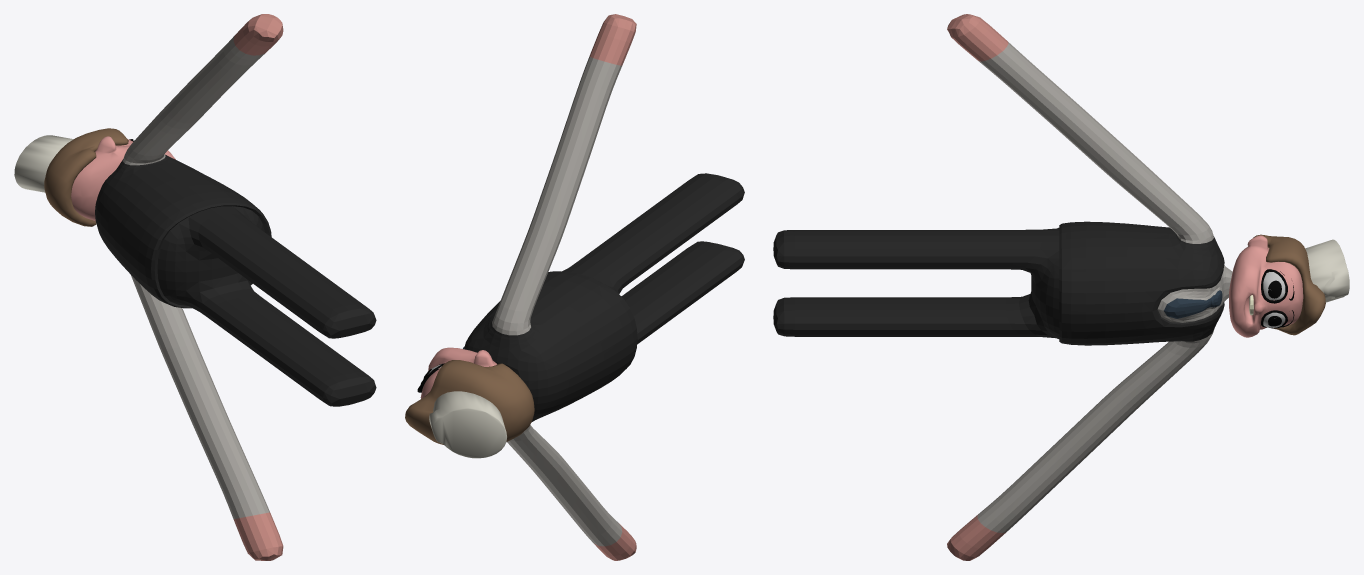
File: player3.fbx
The picture shows the model from 3 angles, left to right: view 1: azimuth 30°, elevation 25°; view 2: azimuth 150°, elevation 25°; view 3: azimuth 270°, elevation 25°; orthographic projection.
Visible parts, largest first — view 1: shang; view 2: shang; view 3: shang.
Part boxes in pixels (bbox=[...]): shang: bbox=[14, 14, 376, 560]; shang: bbox=[405, 14, 744, 560]; shang: bbox=[773, 14, 1349, 560].
Size of the model in its own units: 161 by 666 by 641.
